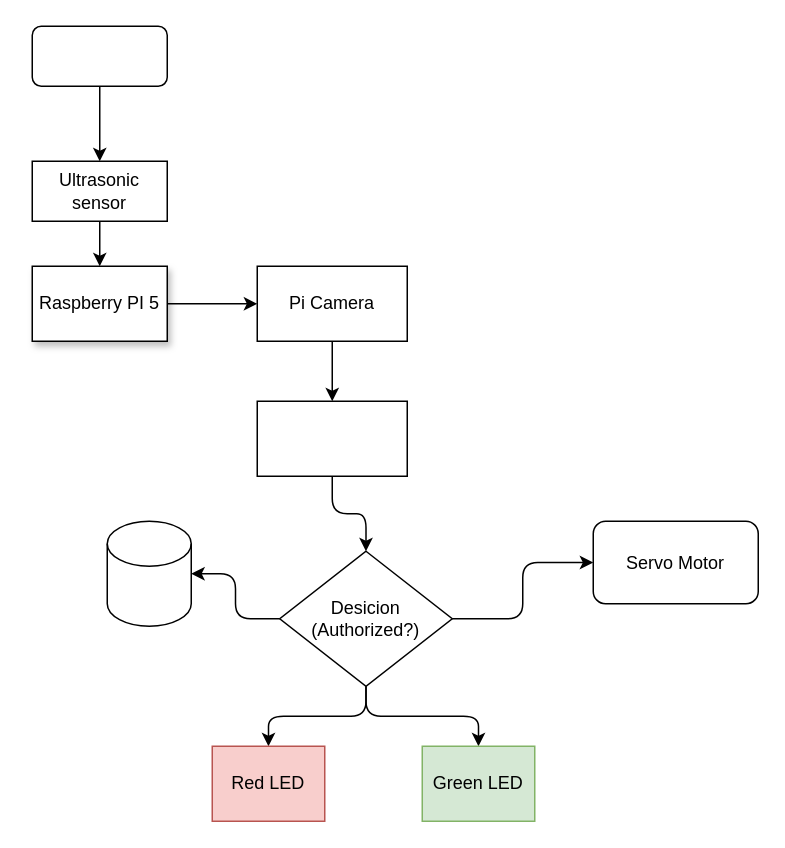
Image size: 785x848. Some labels were removed from this diagram. The centre of each missing label's shape, as x and y in pixels:
Database: point (148, 573)
Image Processing: point (331, 438)
Vehicle: point (99, 55)
